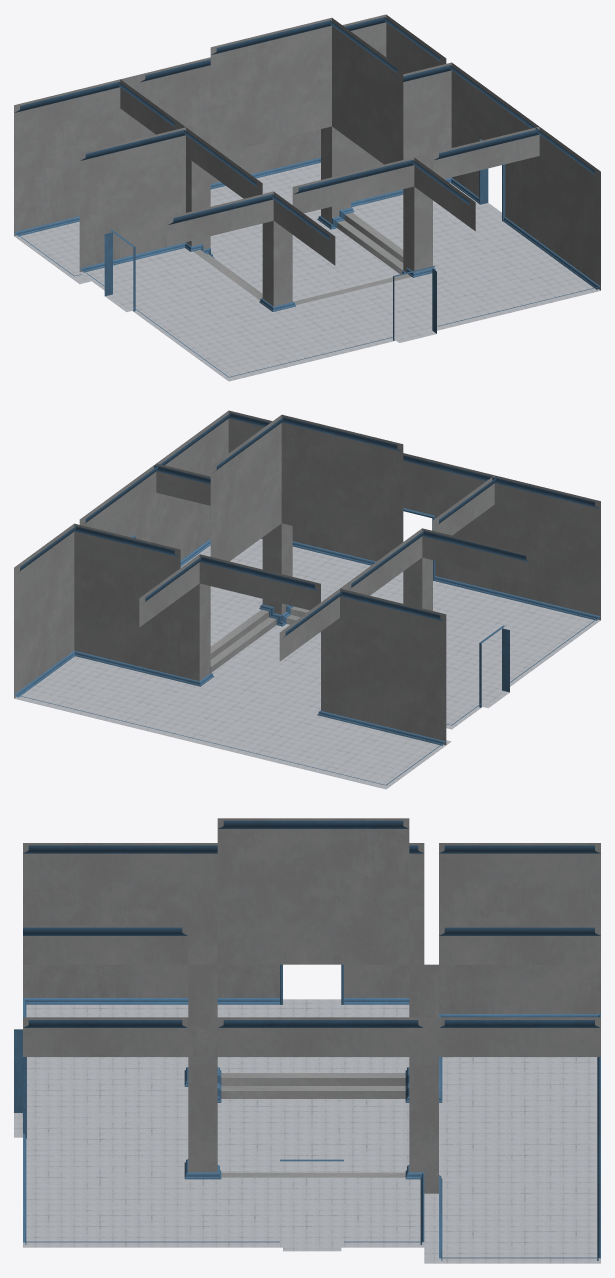
Rendered from PZ_room3_lounge.glb.
The picture shows the model from 3 angles, top to bottom: view 1: azimuth 30°, elevation 25°; view 2: azimuth 150°, elevation 25°; view 3: azimuth 270°, elevation 25°; orthographic projection. The views are drawn at different scales.
Visible parts, largest first — view 1: PZ_LoungeRoomT1; view 2: PZ_LoungeRoomT1; view 3: PZ_LoungeRoomT1.
Boxes of the visible parts, x1,y1,x2,y2 form: PZ_LoungeRoomT1: [14, 14, 600, 381]; PZ_LoungeRoomT1: [14, 410, 600, 789]; PZ_LoungeRoomT1: [14, 818, 600, 1263].
Bounding box in the file's own units: 20.48 × 10.74 × 20.17.
Materials: 3 (3 with a texture image).
